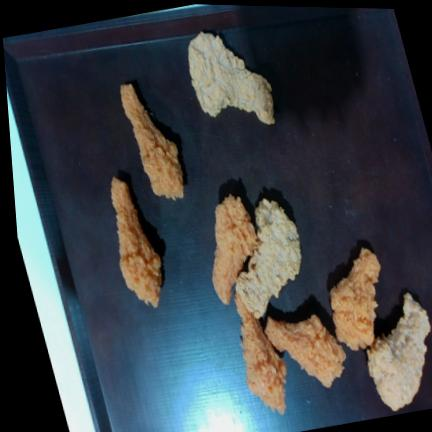chicken: (188, 32, 275, 124), (236, 198, 301, 318), (120, 84, 183, 200), (367, 294, 430, 410), (111, 178, 162, 307), (235, 294, 287, 414), (265, 315, 345, 387), (330, 248, 380, 350), (212, 195, 257, 304)
